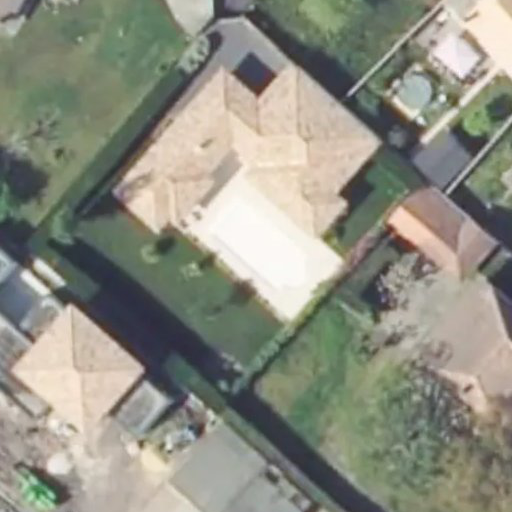pool: (198, 181, 328, 318)
